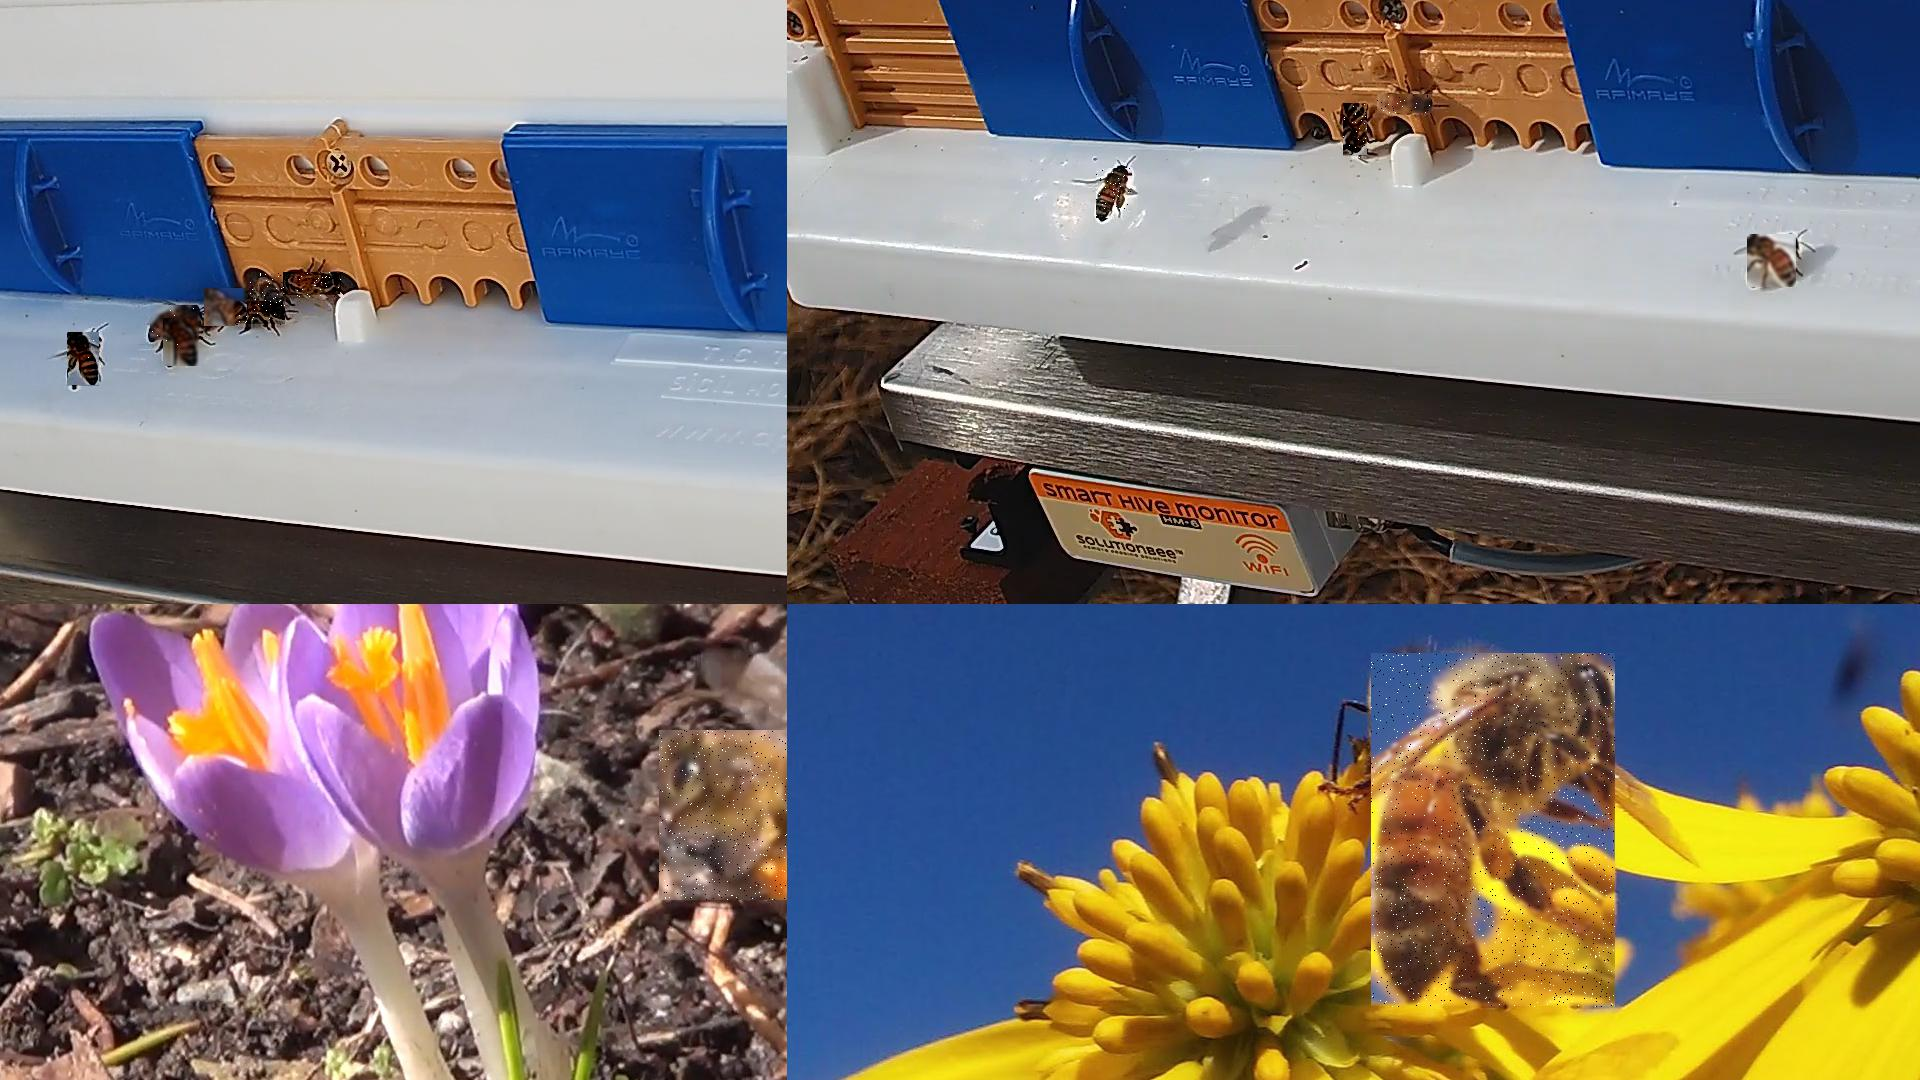bee: (1747, 233, 1797, 287), (67, 332, 100, 390), (164, 318, 202, 367), (150, 305, 198, 342), (204, 289, 249, 327), (284, 273, 345, 299), (236, 302, 286, 328), (251, 272, 284, 302)
pollenbee: (1371, 654, 1615, 1009), (659, 731, 786, 902), (1097, 167, 1133, 219), (1342, 104, 1367, 160), (1377, 94, 1432, 115)
